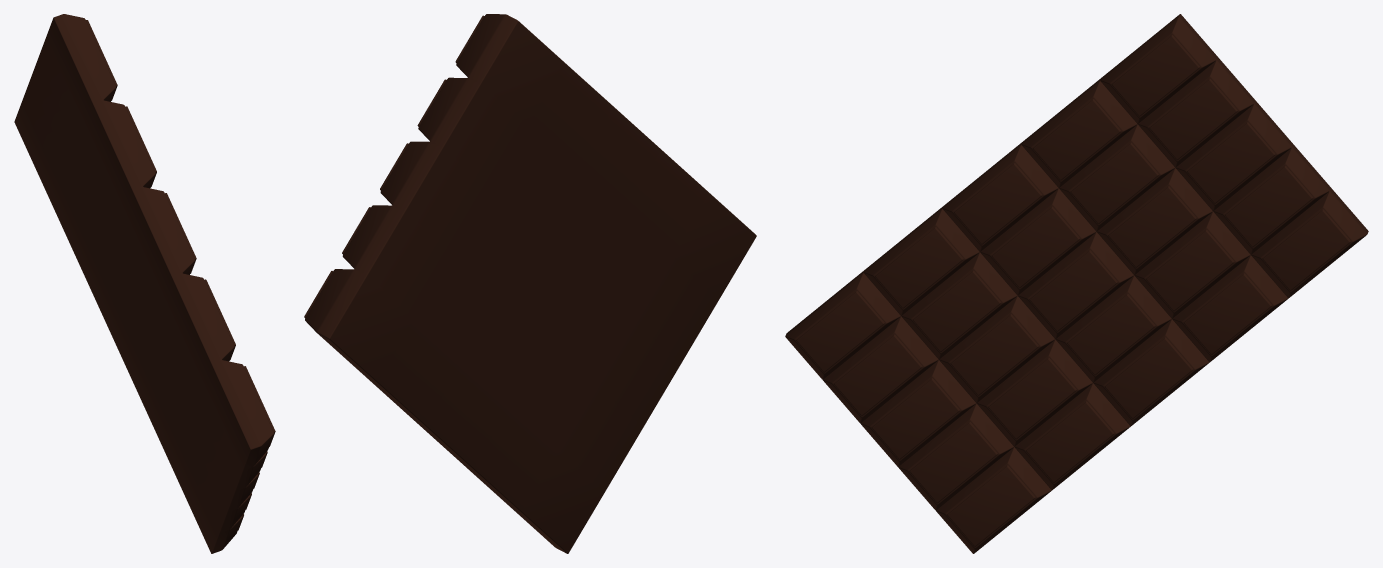
The model's file is chocolate-bar.glb.
3 views of the same model, side by side, from view 1: azimuth 30°, elevation 25°; view 2: azimuth 150°, elevation 25°; view 3: azimuth 270°, elevation 25° (orthographic). The views are drawn at different scales.
Visible parts, largest first — view 1: Chololate Bar; view 2: Chololate Bar; view 3: Chololate Bar.
Boxes of the visible parts, x1,y1,x2,y2 form: Chololate Bar: (14,14,275,553); Chololate Bar: (304,14,756,553); Chololate Bar: (785,14,1368,553).
Bounding box in the file's own units: 0.7692 × 4.03 × 4.2.
